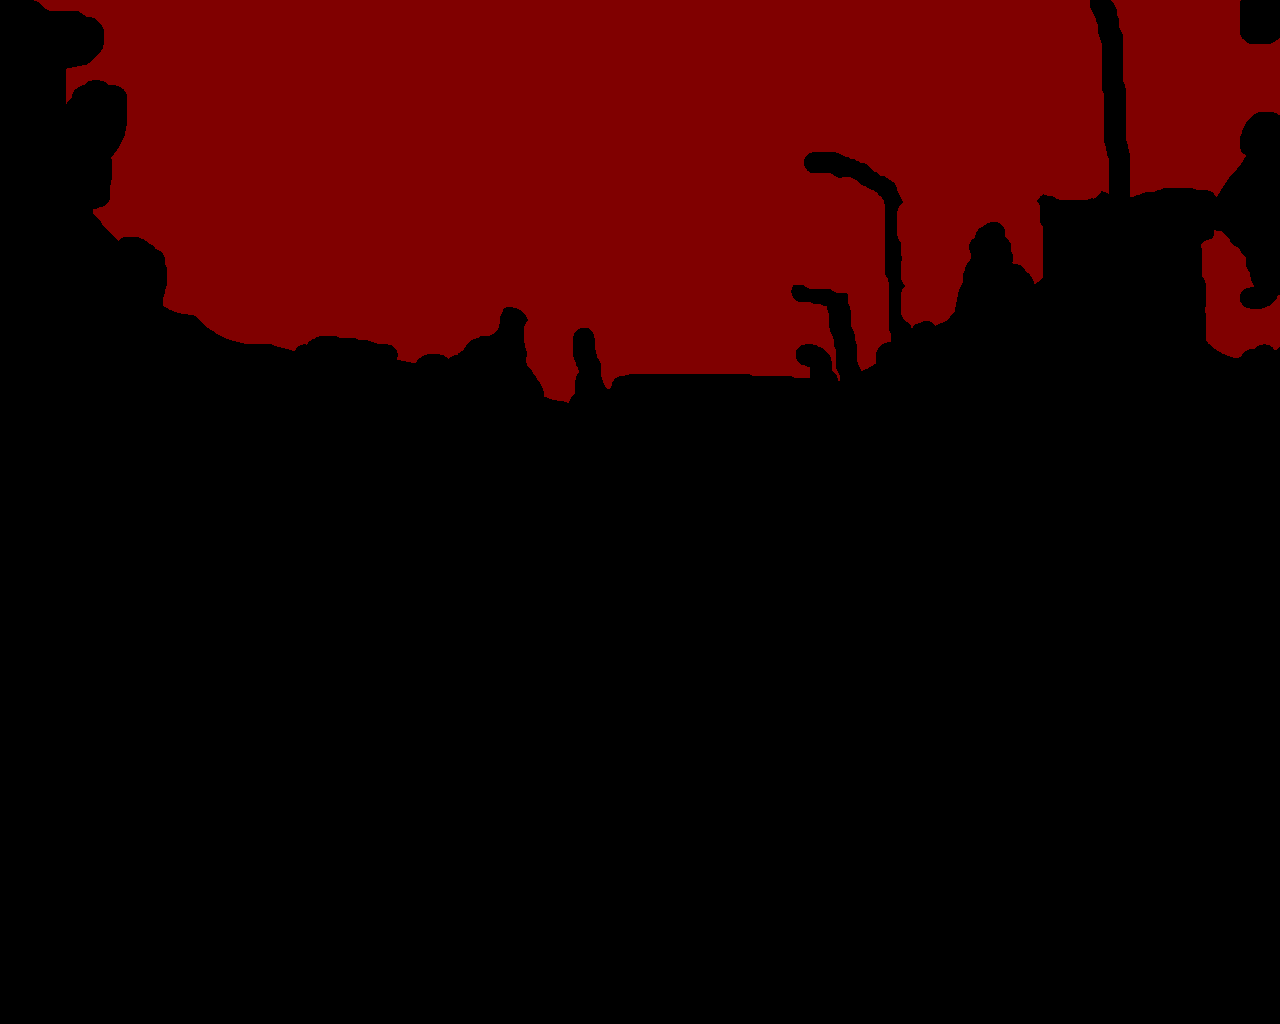Sky: (34, 1, 1279, 403)
